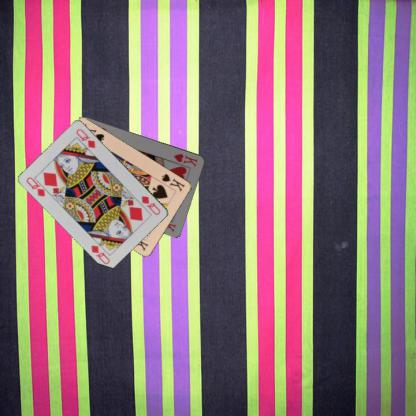Kh: (172, 151, 198, 168)
Ks: (160, 171, 186, 193)
Qd: (24, 175, 51, 198), (139, 193, 162, 216)
